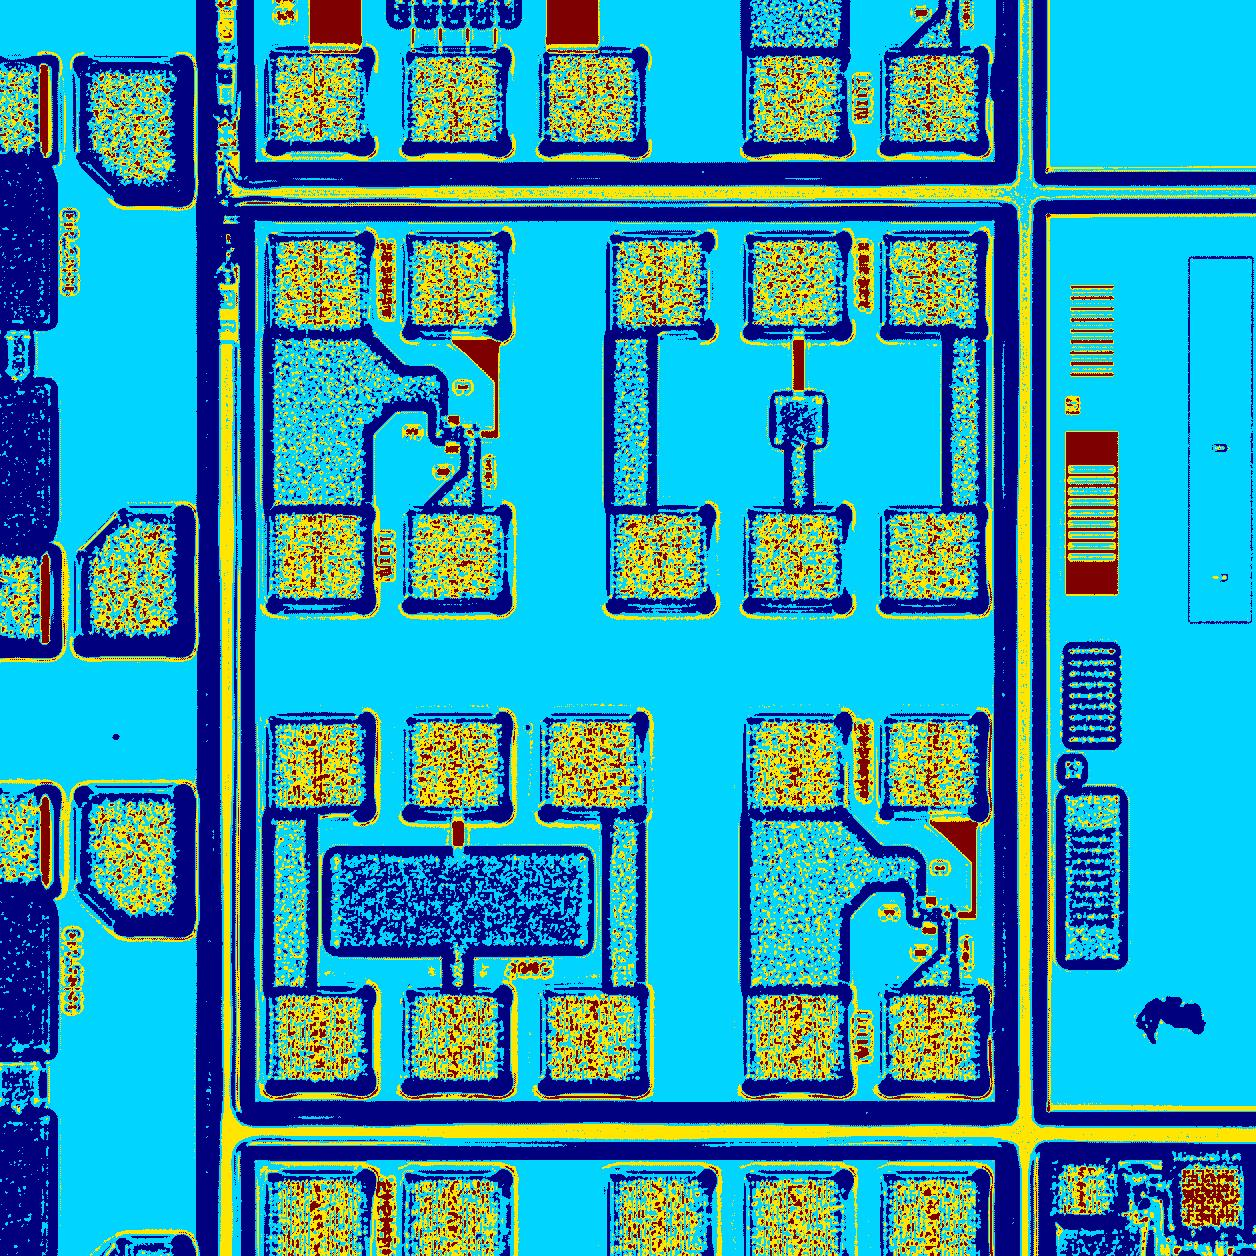Die: (236, 204, 1017, 1129)
Pad 3: (547, 995, 640, 1081), (889, 513, 977, 598), (411, 514, 498, 598), (751, 514, 838, 598), (275, 723, 362, 807), (274, 997, 362, 1080), (616, 242, 702, 327), (549, 722, 634, 807), (889, 240, 975, 324), (412, 996, 498, 1080), (751, 996, 838, 1079), (615, 514, 700, 598), (889, 722, 974, 806), (275, 514, 361, 597), (412, 723, 498, 806), (276, 242, 360, 326), (753, 722, 837, 806), (890, 996, 974, 1080), (412, 242, 497, 324), (753, 242, 836, 326)
